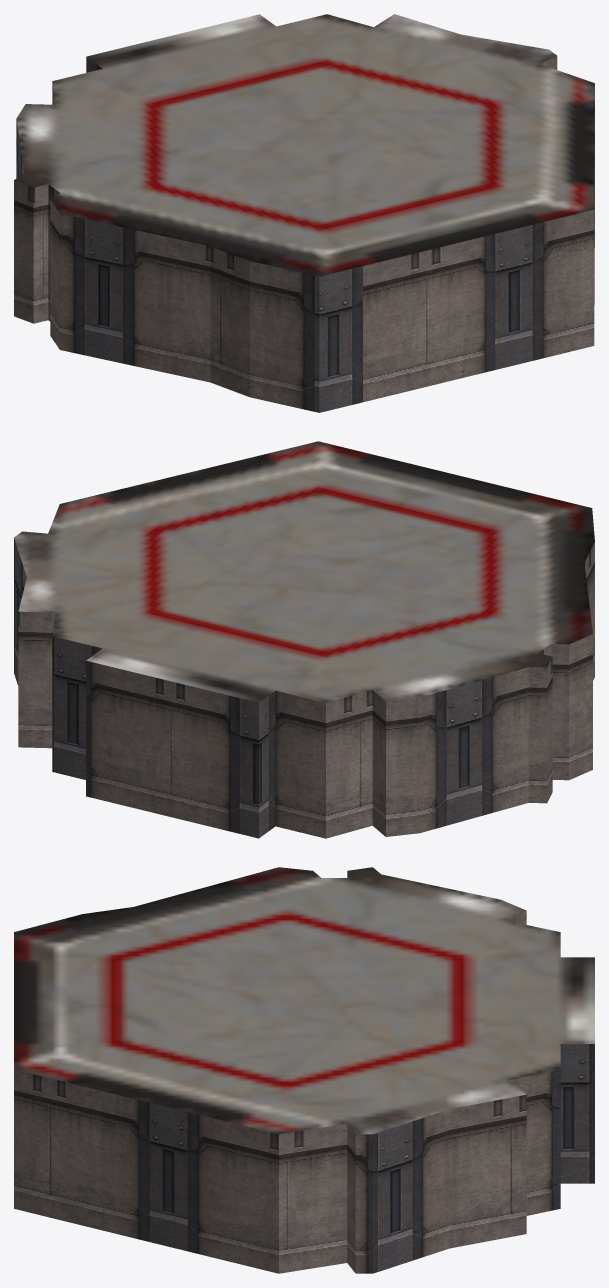
File: bsealed_light_35.glb
3 views of the same model, one above another, from view 1: azimuth 30°, elevation 25°; view 2: azimuth 150°, elevation 25°; view 3: azimuth 270°, elevation 25° (orthographic). The views are drawn at different scales.
Parts seen in each view (by area): view 1: buildings/saxarba/bsealed_light/bsealed_light_35; view 2: buildings/saxarba/bsealed_light/bsealed_light_35; view 3: buildings/saxarba/bsealed_light/bsealed_light_35.
Boxes of the visible parts, x1,y1,x2,y2 form: buildings/saxarba/bsealed_light/bsealed_light_35: (14, 14, 594, 412); buildings/saxarba/bsealed_light/bsealed_light_35: (14, 441, 594, 838); buildings/saxarba/bsealed_light/bsealed_light_35: (14, 867, 594, 1273).
Bounding box in the file's own units: 74 × 18 × 68.
